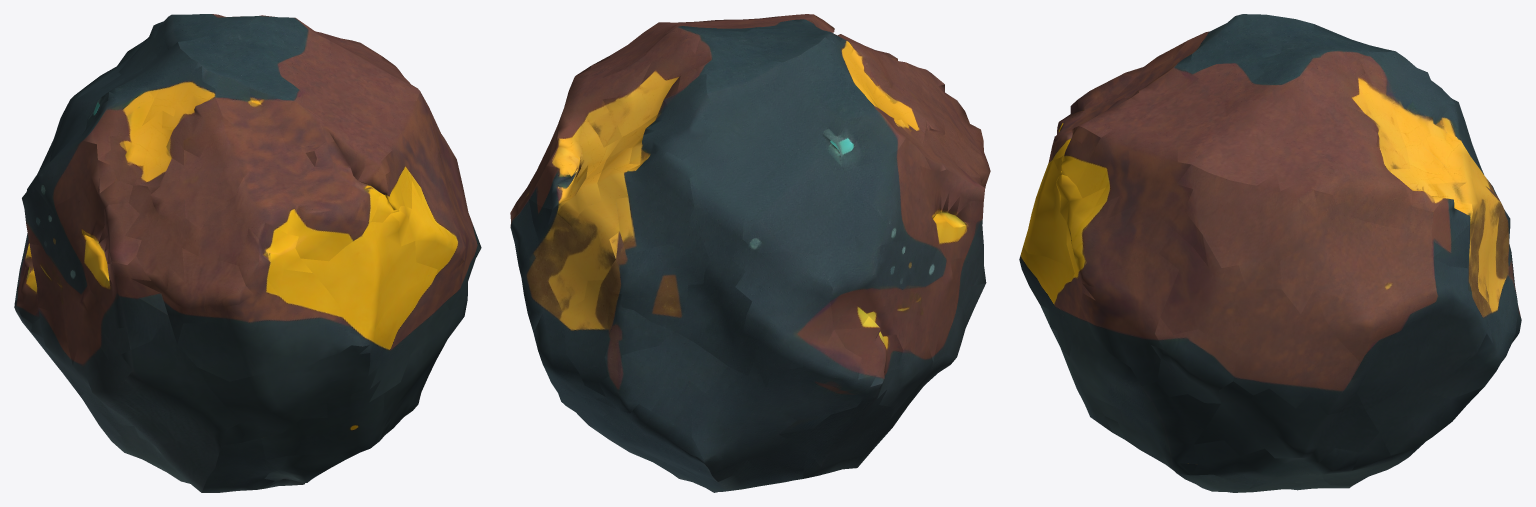
Rendered from rare_asteroid.glb.
The picture shows the model from 3 angles, left to right: view 1: azimuth 30°, elevation 25°; view 2: azimuth 150°, elevation 25°; view 3: azimuth 270°, elevation 25°; orthographic projection. The views are drawn at different scales.
Bounding box in the file's own units: 0.8315 × 0.9185 × 0.958.
1 material, 1 textured.
